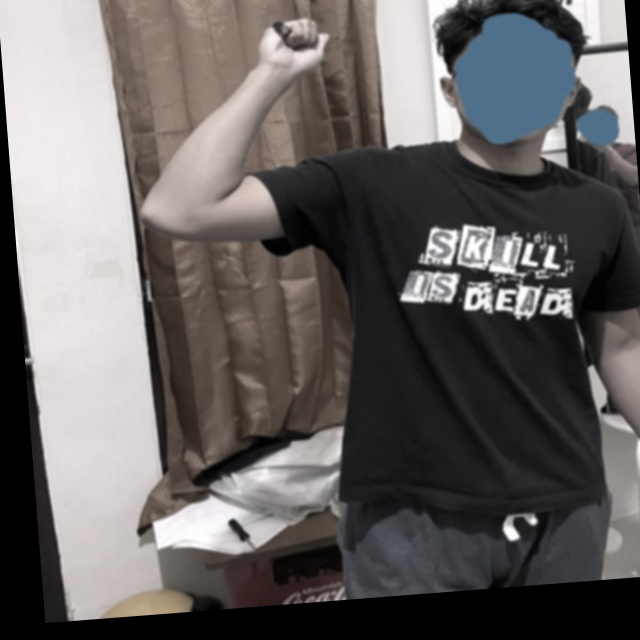Sharp-Object: (270, 20, 293, 43)
